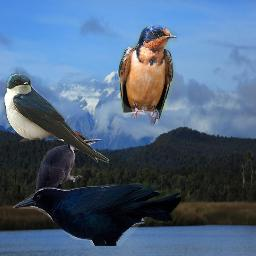Crow: (13, 183, 181, 246)
Swallow: (4, 73, 109, 163), (118, 24, 177, 125)
Woodpecker: (31, 130, 103, 214)
